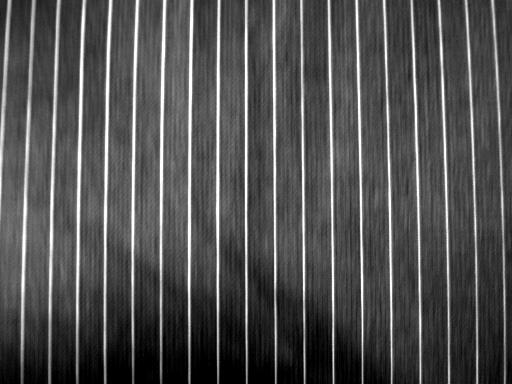fabric_perfect: (2, 2, 510, 384)
